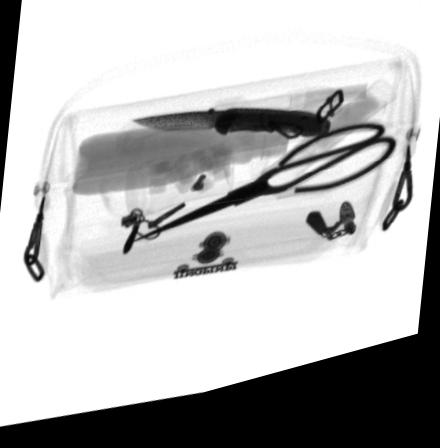Knife: (131, 120, 333, 155)
Scissors: (131, 144, 397, 250)
